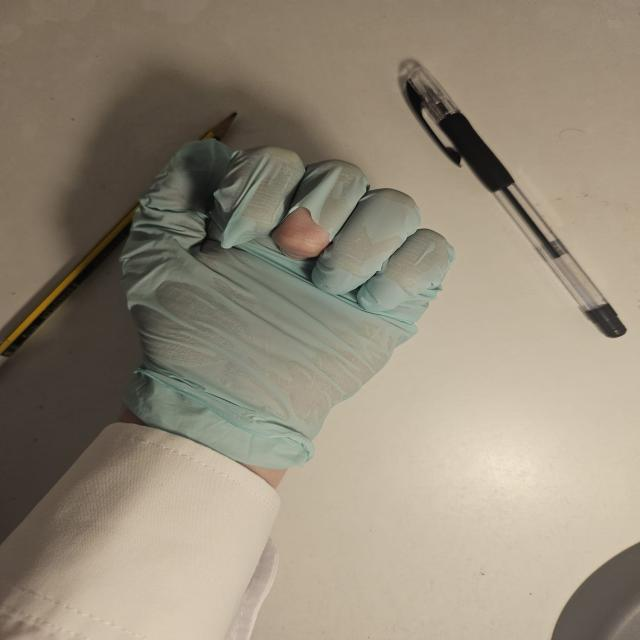gloves_damaged: (110, 133, 455, 476)
